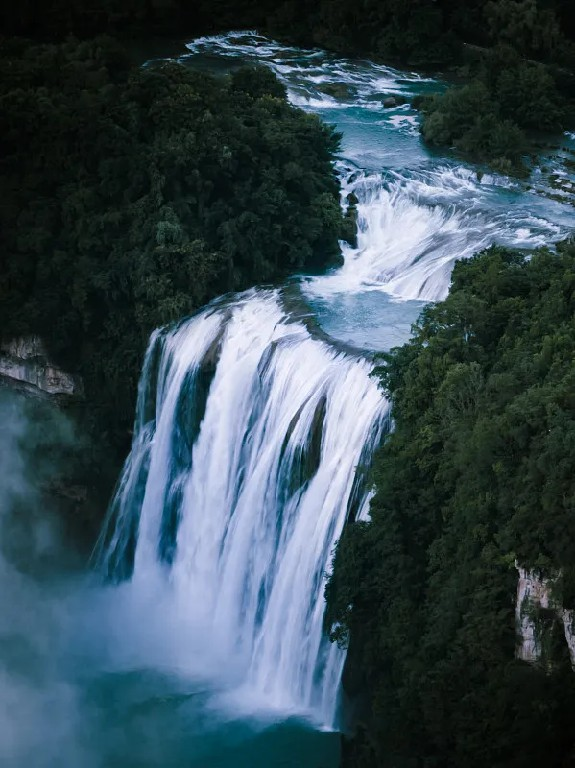Huangguoshu: (101, 187, 491, 726)
